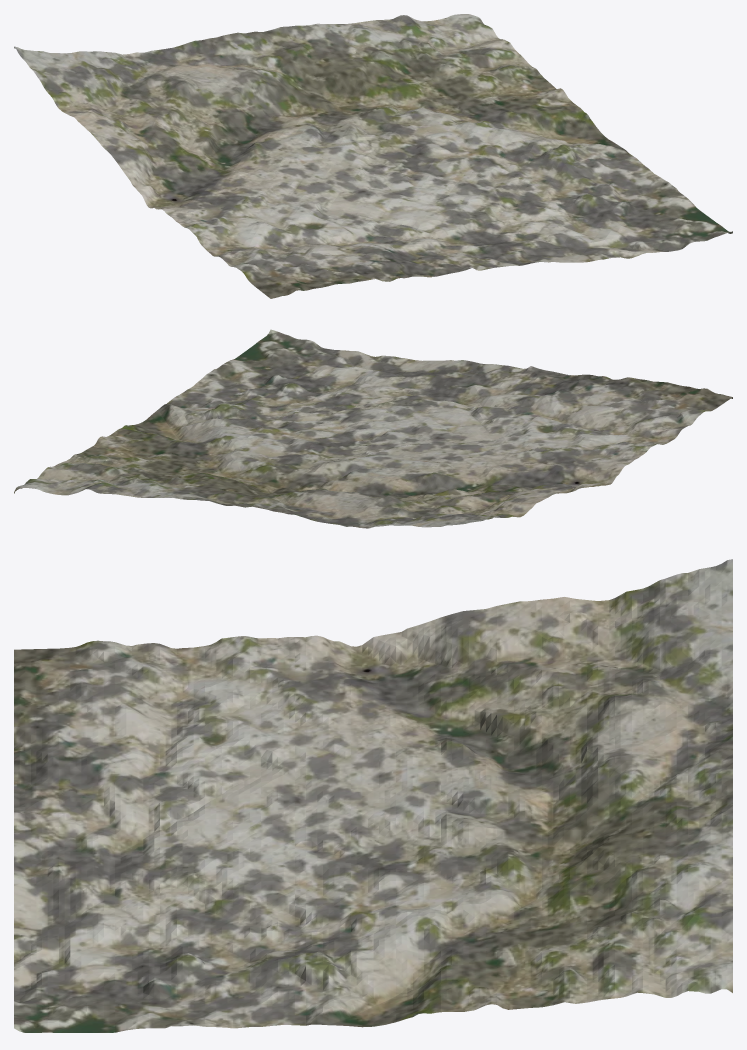
3 views of the same model, one above another, from view 1: azimuth 30°, elevation 25°; view 2: azimuth 150°, elevation 25°; view 3: azimuth 270°, elevation 25° (orthographic). The views are drawn at different scales.
Bounding box in the file's own units: 250 × 60.72 × 241.
Materials: 1 (1 with a texture image).
